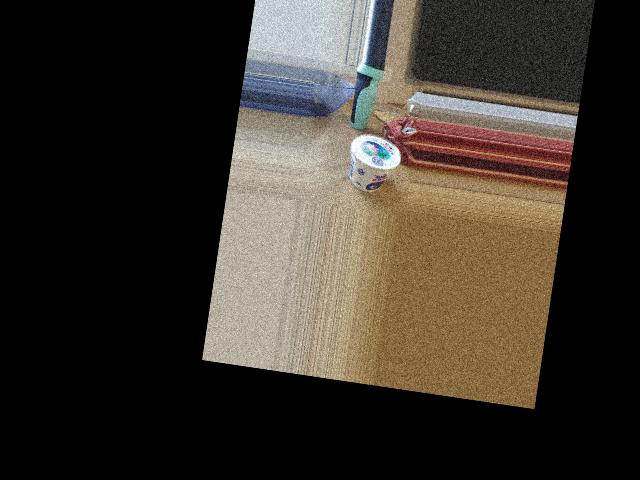cotage: (341, 127, 395, 197)
